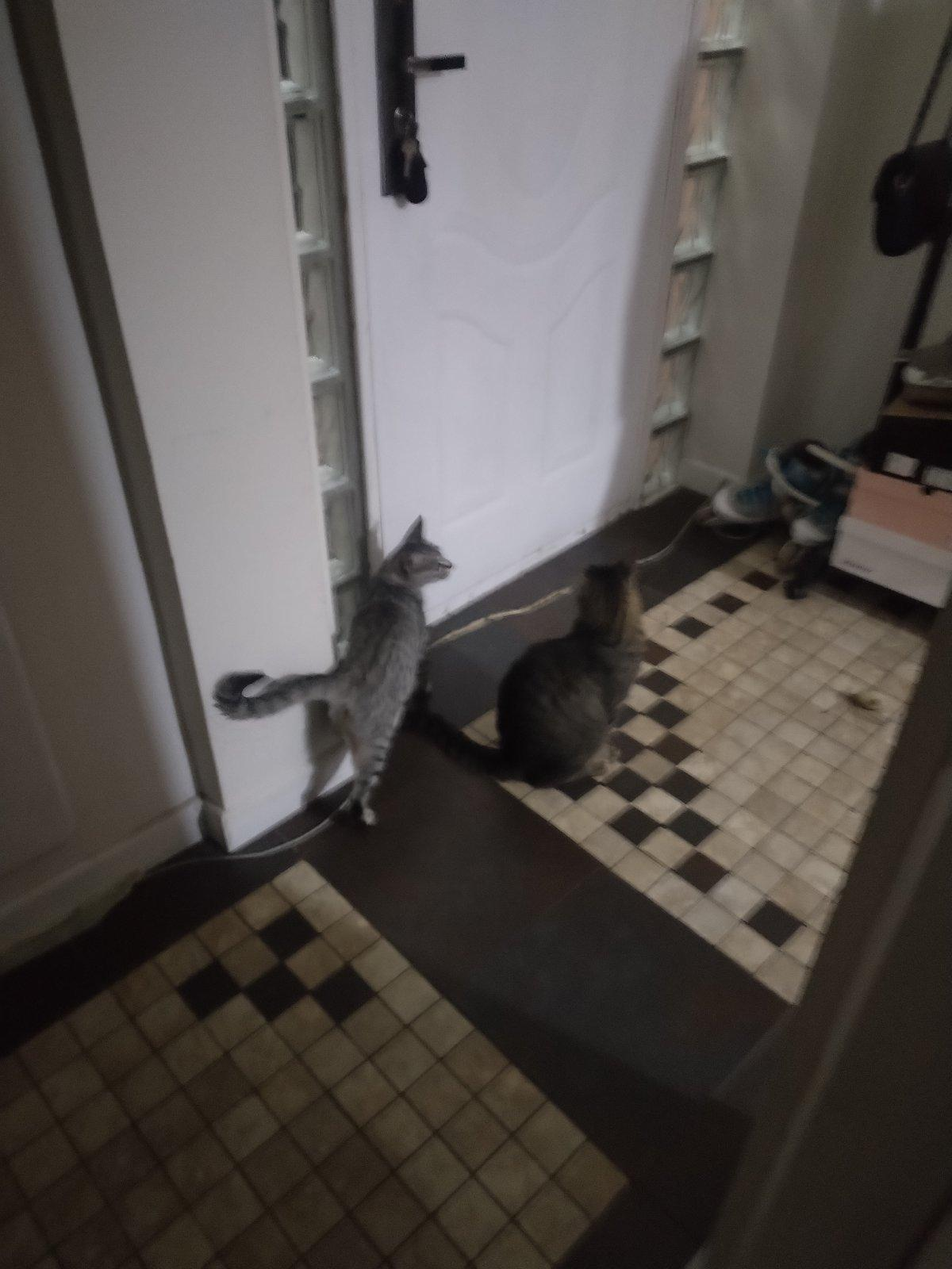macka: (214, 517, 456, 831), (404, 563, 653, 791)
